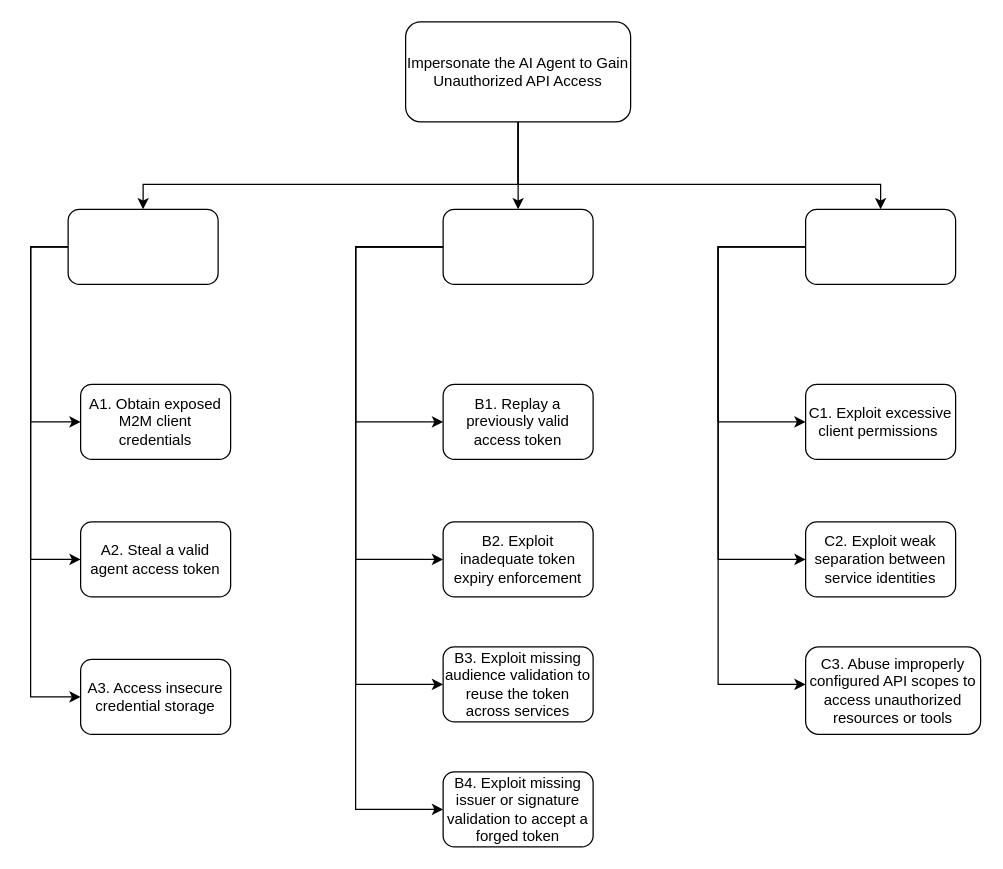
The diagram is 1003 pixels wide and 869 high, and some of its shapes have lost their labels. The box of each missing label's shape, as (x1, y1, x2, y2) in pixels:
A. Credential Theft: (67, 208, 218, 284)
B. Token Abuse: (442, 208, 593, 284)
C. Identify Configuration Abuse: (804, 208, 956, 284)
